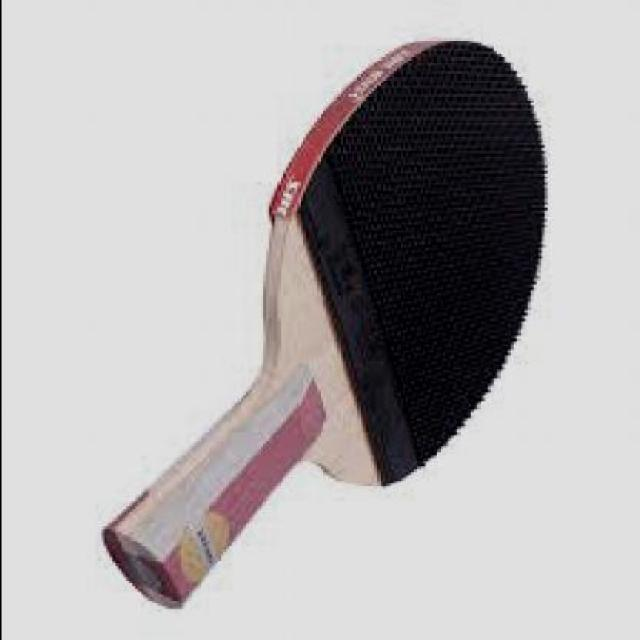table_tennis_racket: (243, 34, 548, 495)
